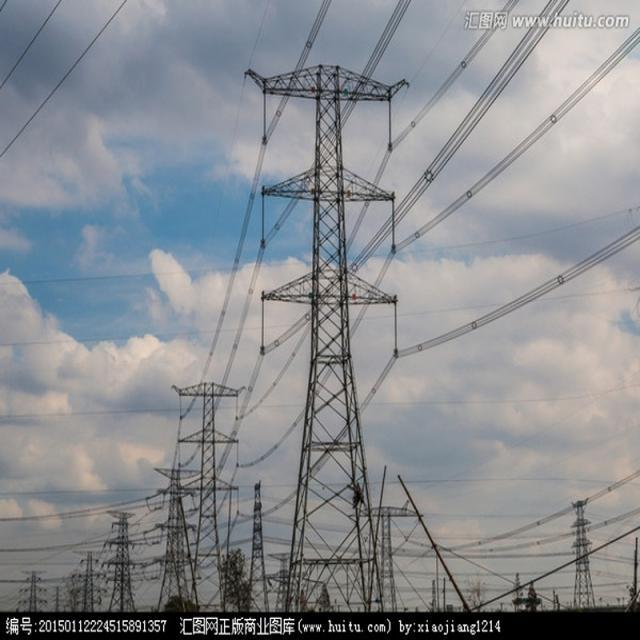non-critical vegetation: (238, 50, 422, 606), (166, 376, 252, 610), (563, 494, 604, 604), (102, 511, 144, 608), (70, 550, 104, 606), (18, 570, 48, 608)
